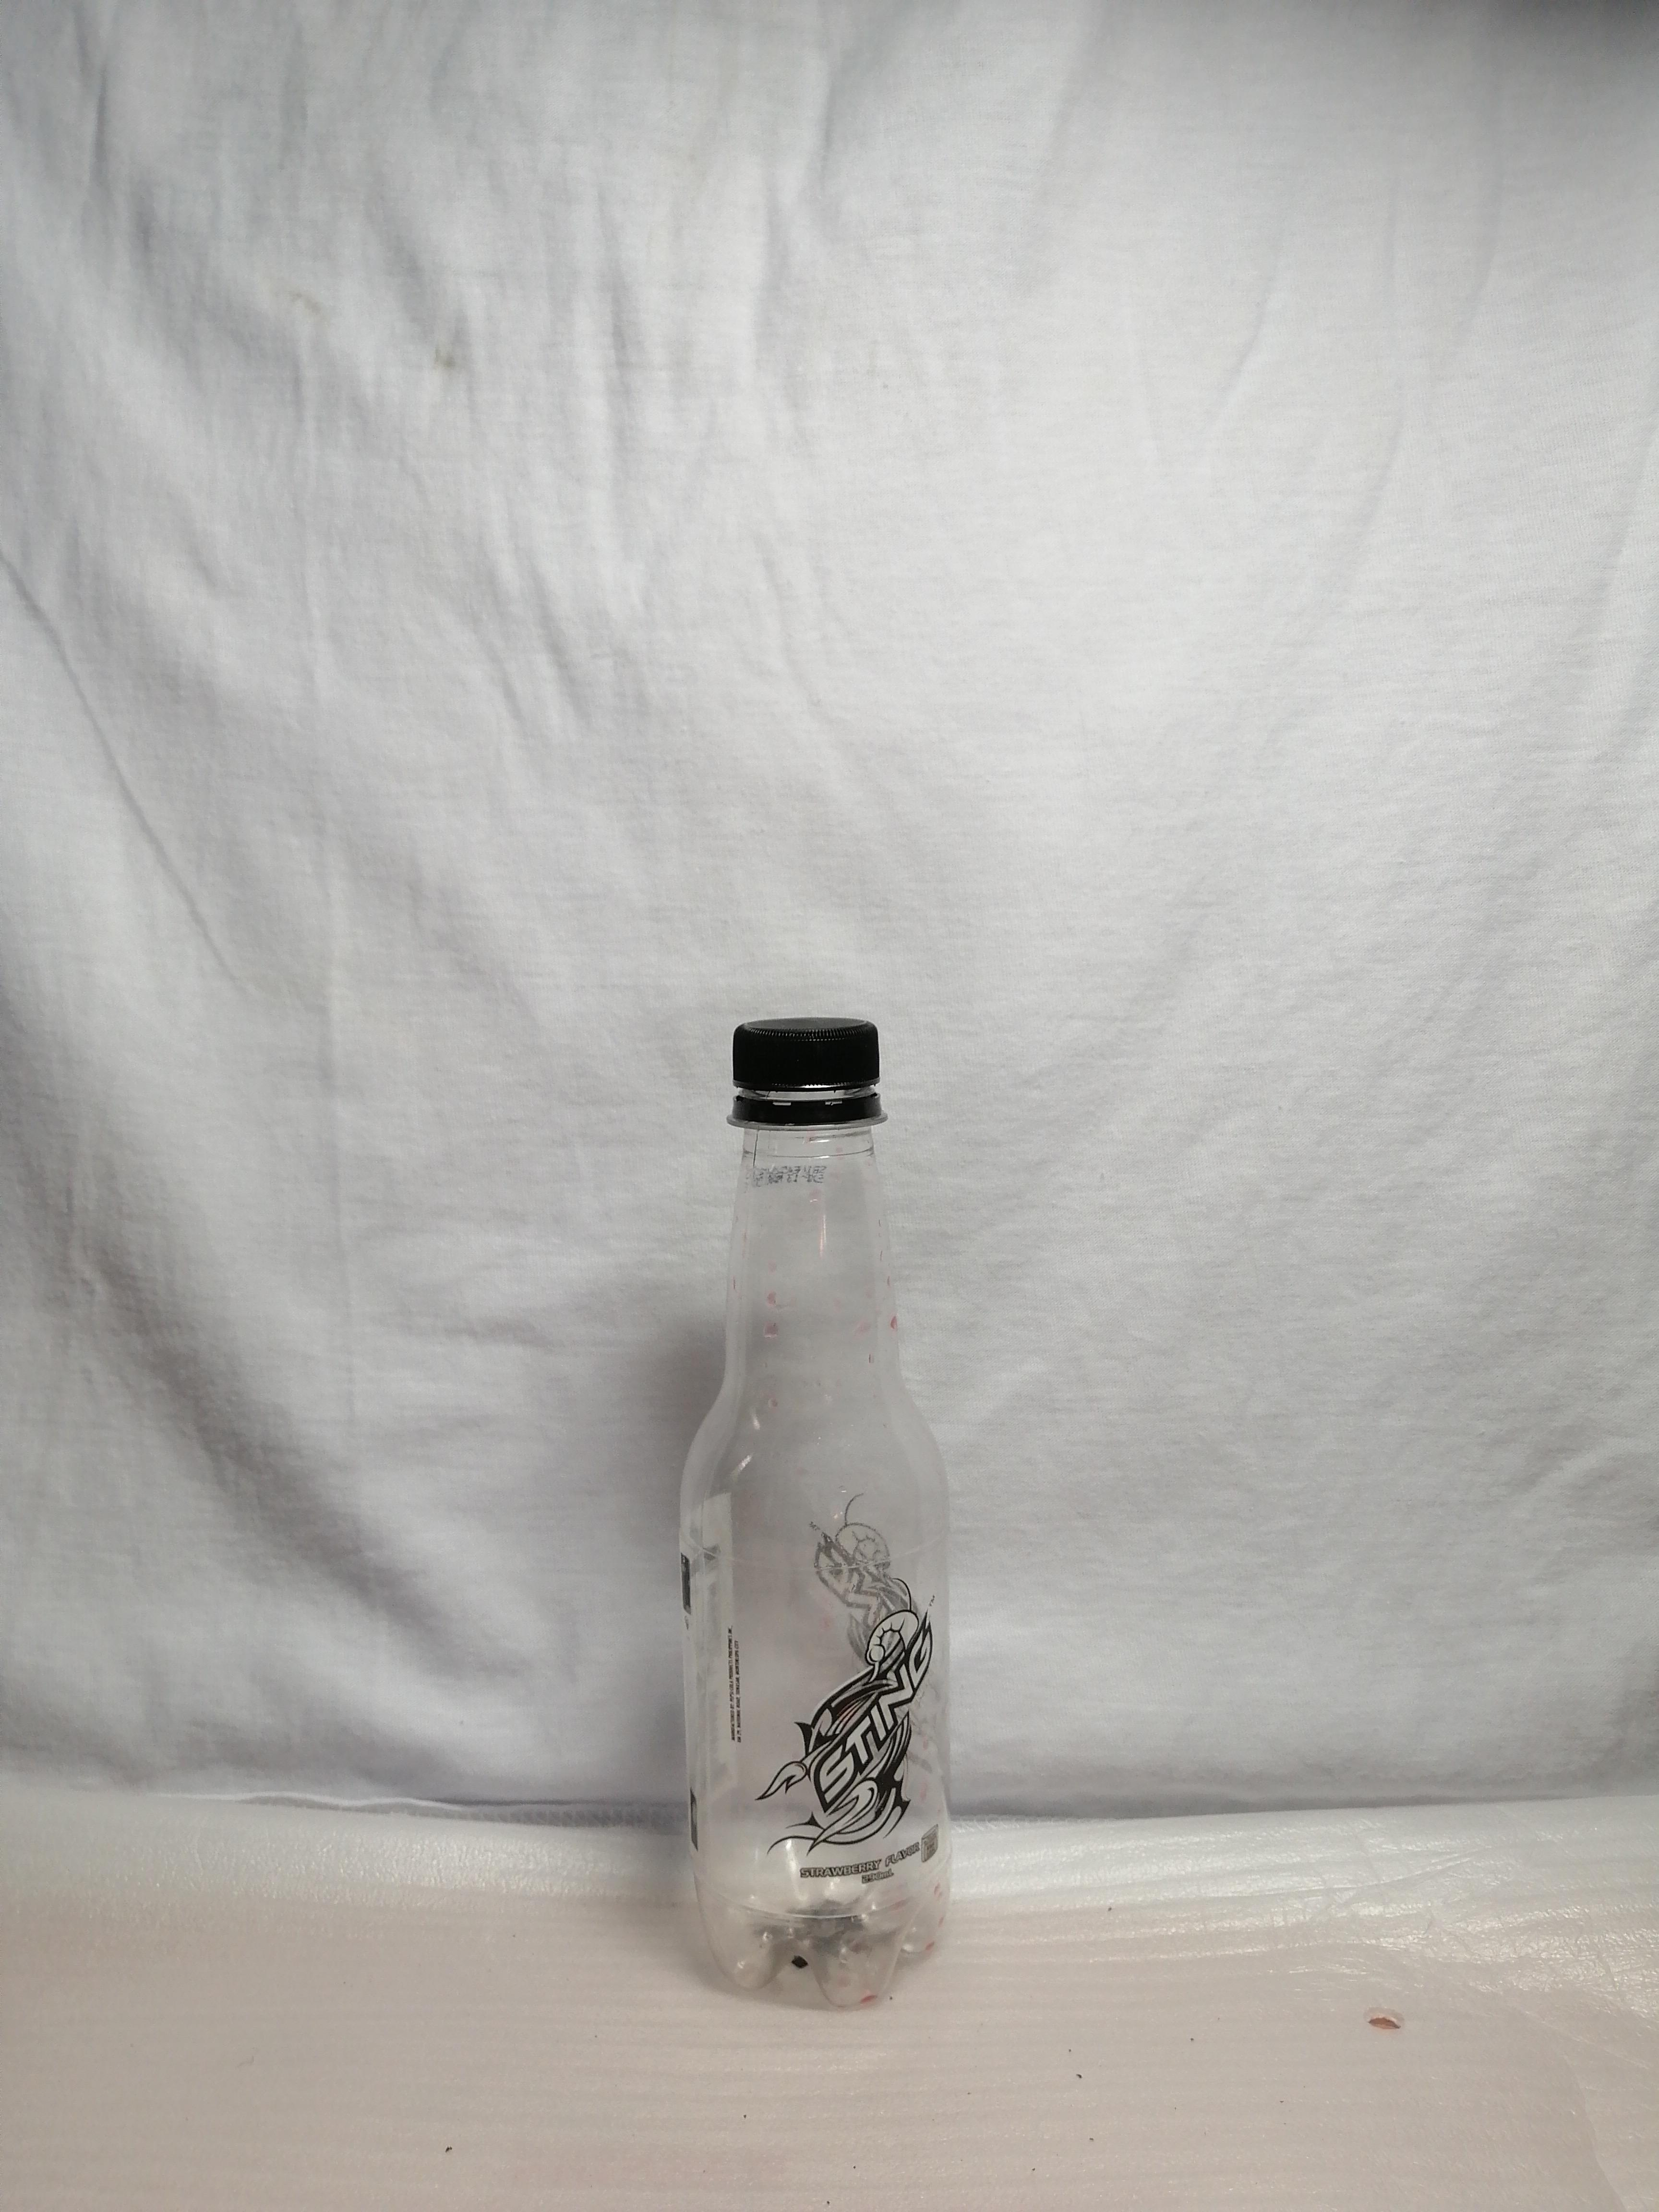plastic-bottle: (595, 946, 989, 2031)
